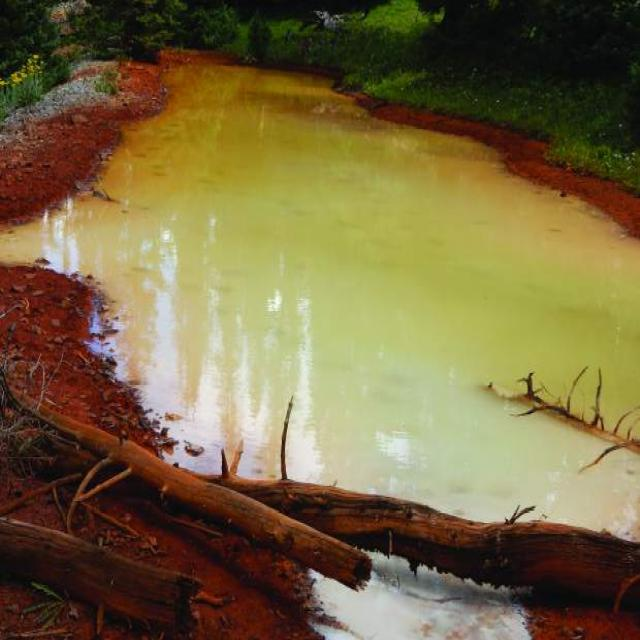yellow_boy: (0, 62, 639, 537), (316, 560, 525, 636)
